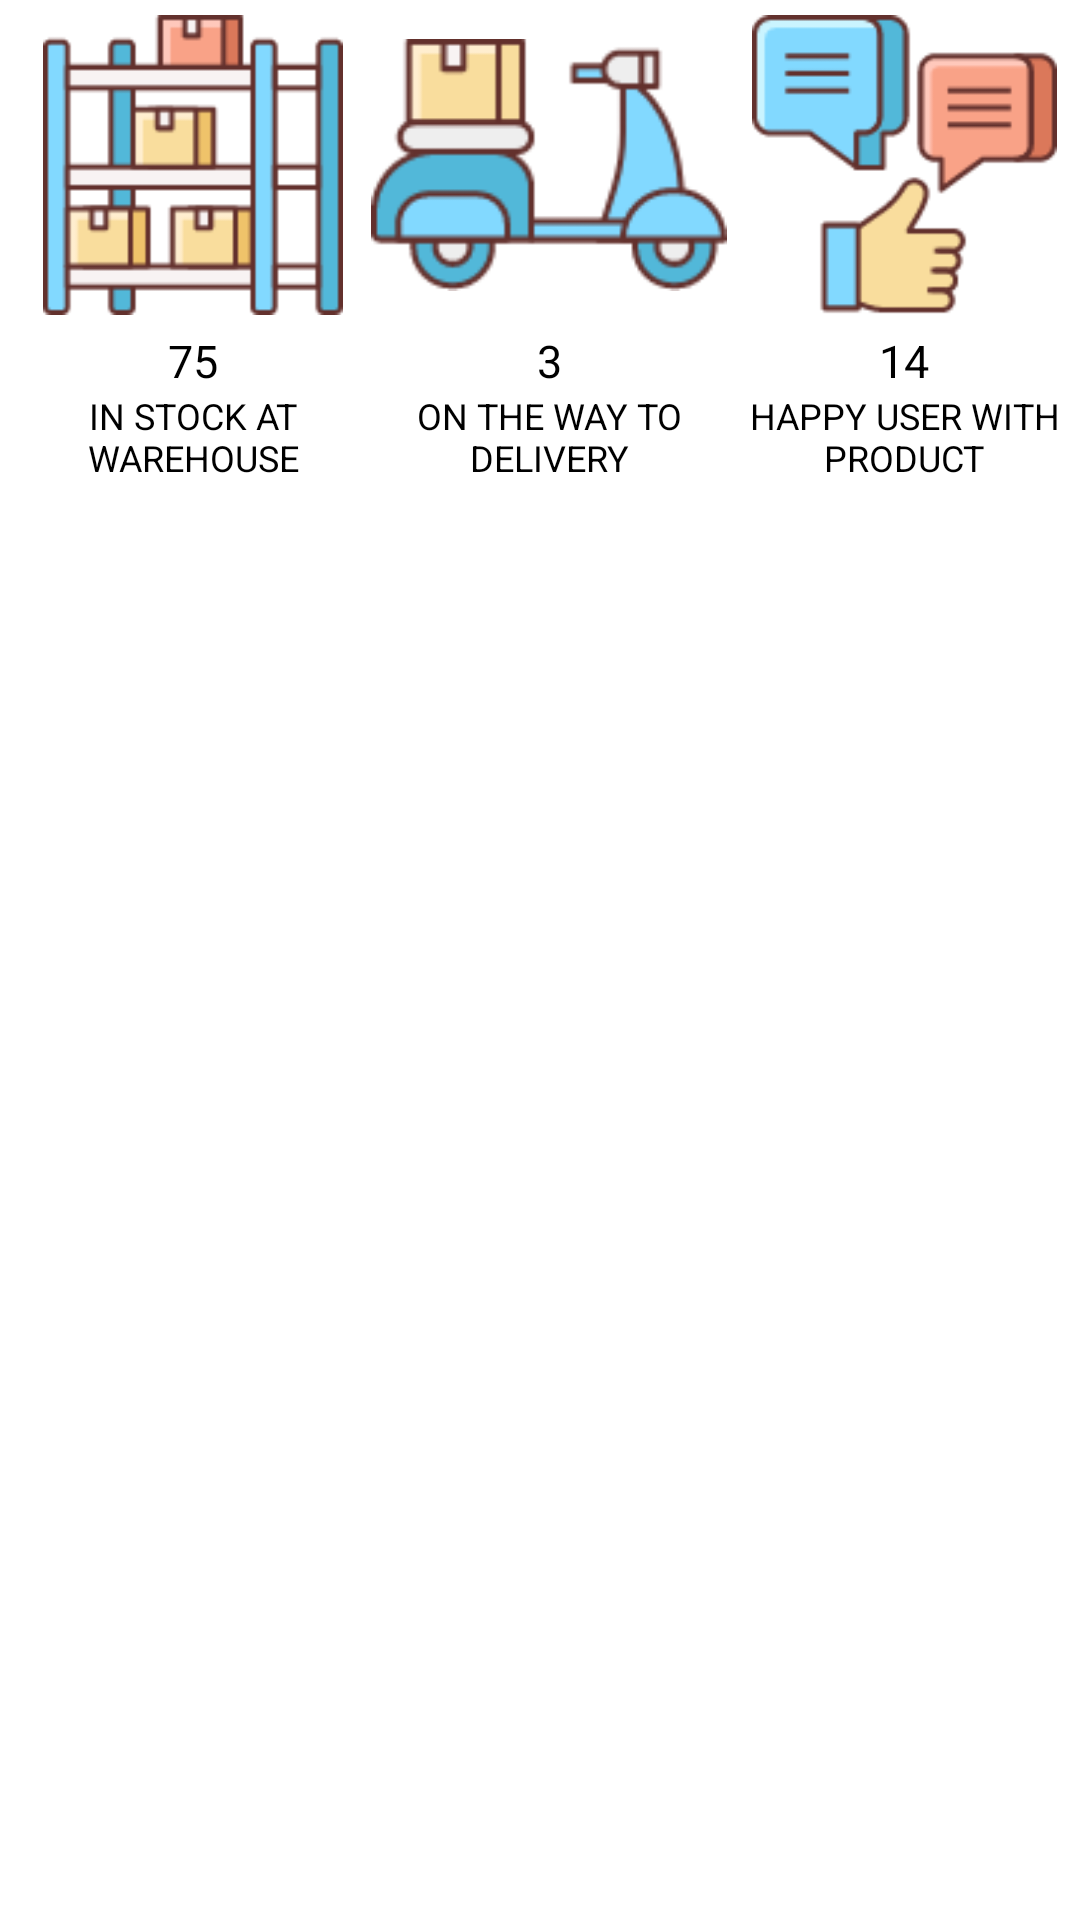

Screen size 1080x1920. Icon name, then its center in pixels as point (x, y):
delivery bike: point (549, 165)
feedback: point (904, 164)
